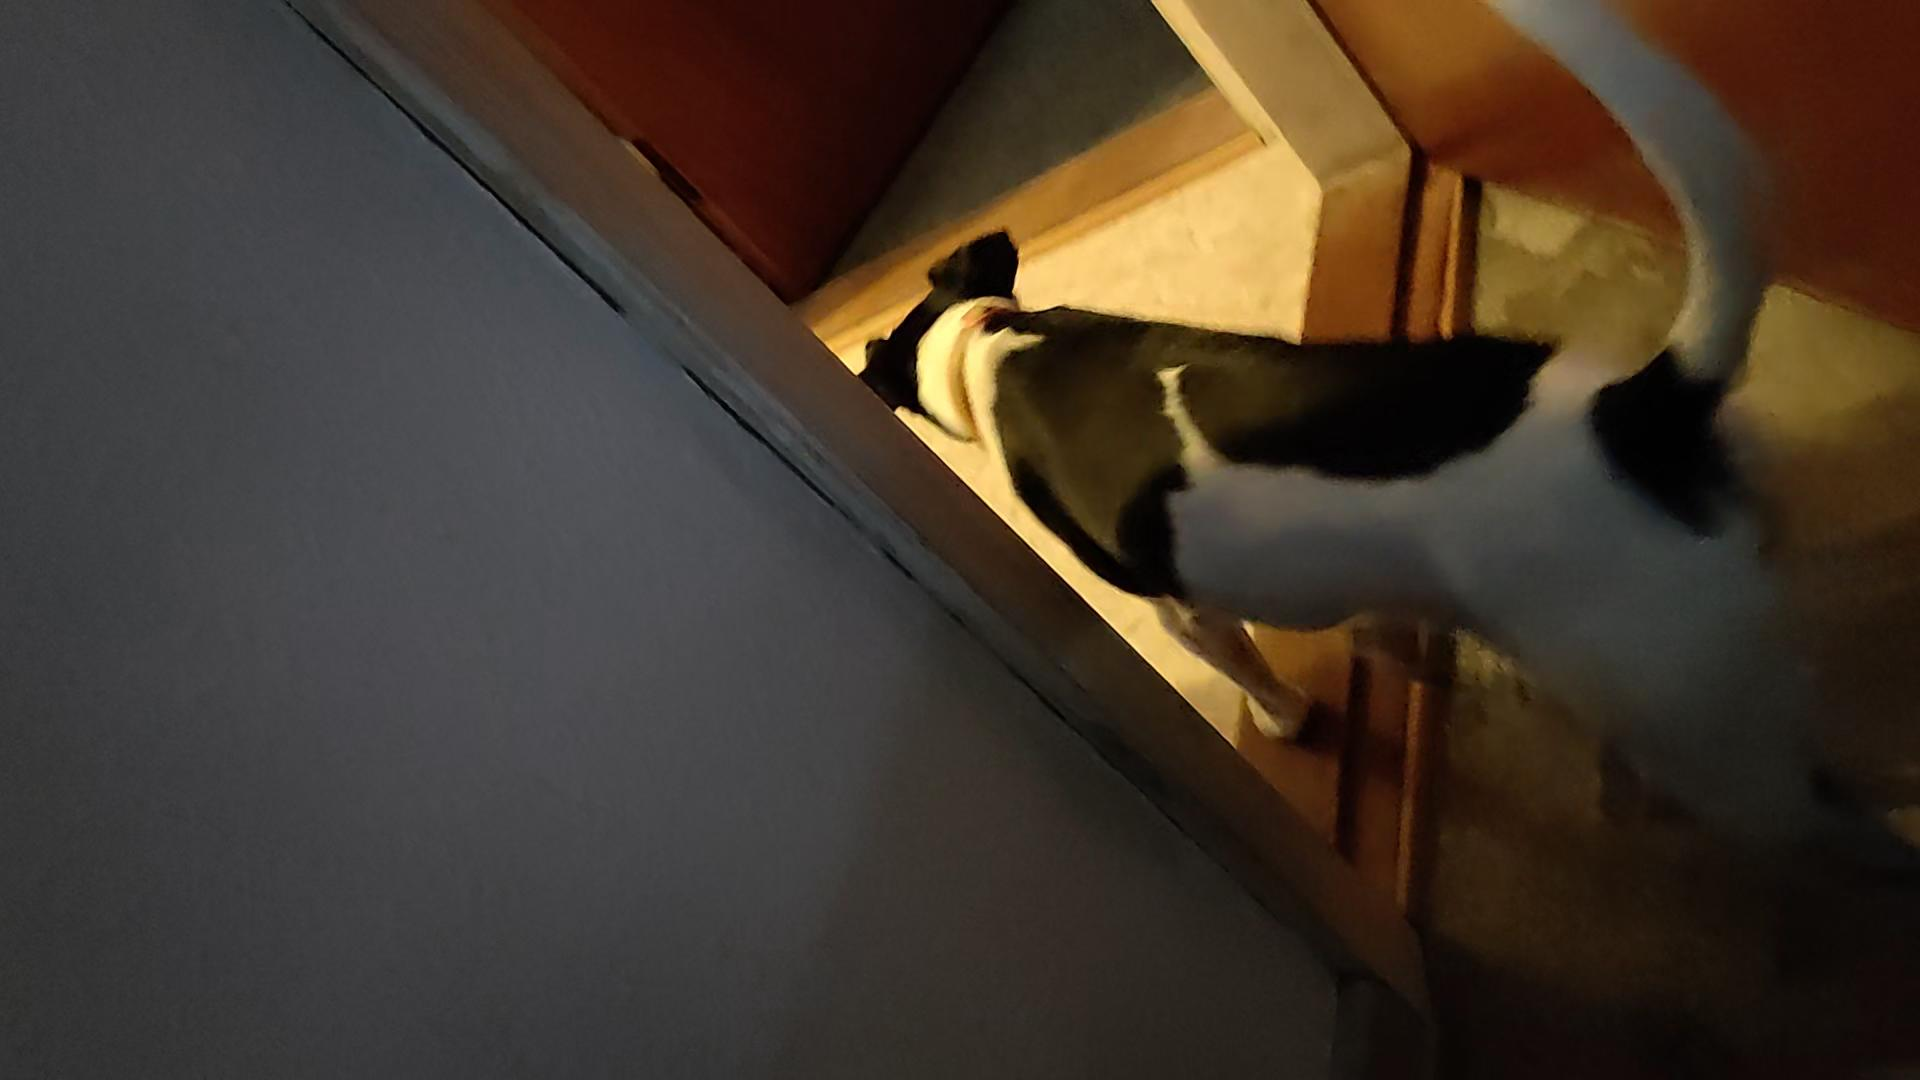Dog: (849, 0, 1919, 895)
